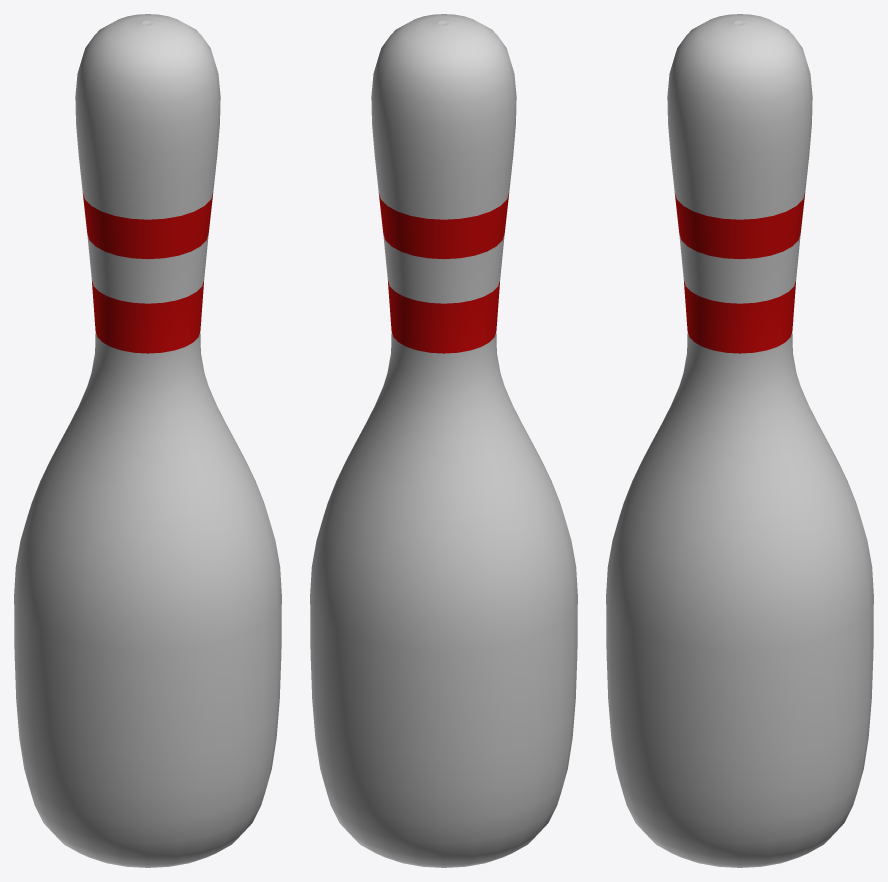
Rendered from bowling_pin_smooth.fbx.
3 renders of one model, left to right at view 1: azimuth 30°, elevation 25°; view 2: azimuth 150°, elevation 25°; view 3: azimuth 270°, elevation 25°, orthographic.
Parts seen in each view (by area): view 1: Pin; view 2: Pin; view 3: Pin.
Part boxes in pixels (bbox=[...]): Pin: bbox=[14, 14, 281, 867]; Pin: bbox=[310, 14, 577, 867]; Pin: bbox=[606, 14, 873, 867].
Bounding box in the file's own units: 113 × 380 × 113.
